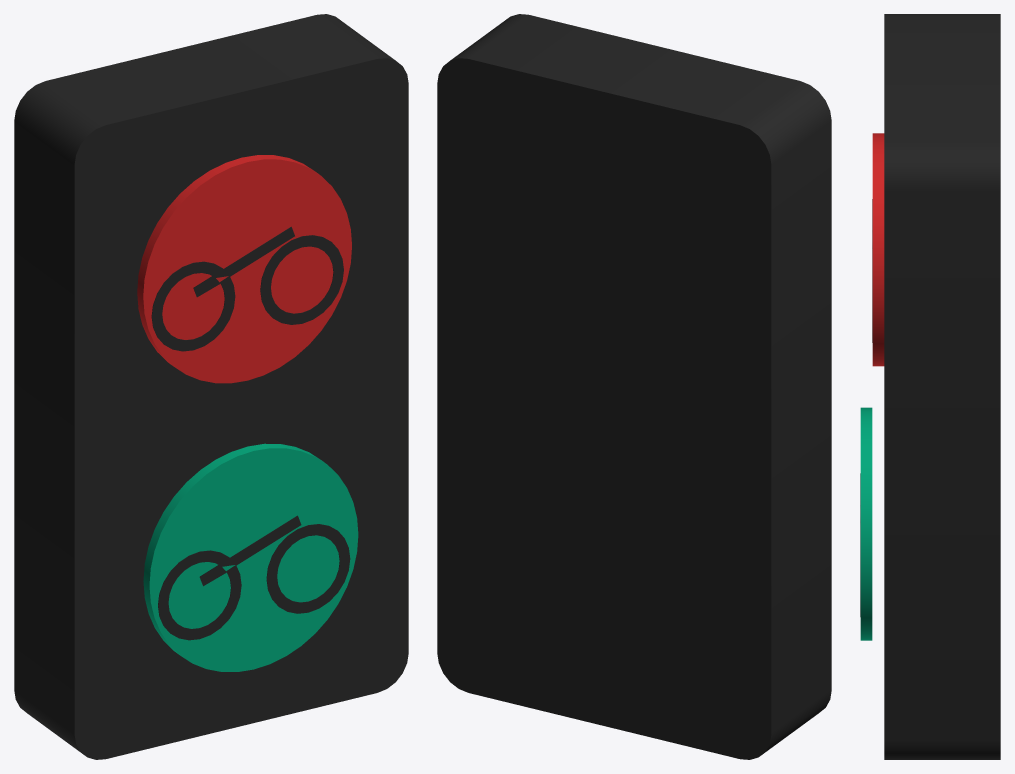
3 views of the same model, side by side, from view 1: azimuth 30°, elevation 25°; view 2: azimuth 150°, elevation 25°; view 3: azimuth 270°, elevation 25° (orthographic). The views are drawn at different scales.
Visible parts, largest first — view 1: R12m_r00, R12m_d276, R12m_d250, R12m_s301, R12m_s275; view 2: R12m_r00; view 3: R12m_r00, R12m_d250, R12m_d276.
Part boxes in pixels (<box>): R12m_r00: <box>14,14,408,759</box>; R12m_d276: <box>143,443,358,671</box>; R12m_d250: <box>137,155,351,383</box>; R12m_s301: <box>158,515,350,640</box>; R12m_s275: <box>151,226,343,351</box>; R12m_r00: <box>437,14,831,759</box>; R12m_r00: <box>884,14,1000,759</box>; R12m_d250: <box>872,133,884,366</box>; R12m_d276: <box>860,407,872,640</box>.
Size of the model in its own units: 0.32 by 0.58 by 0.1208.
